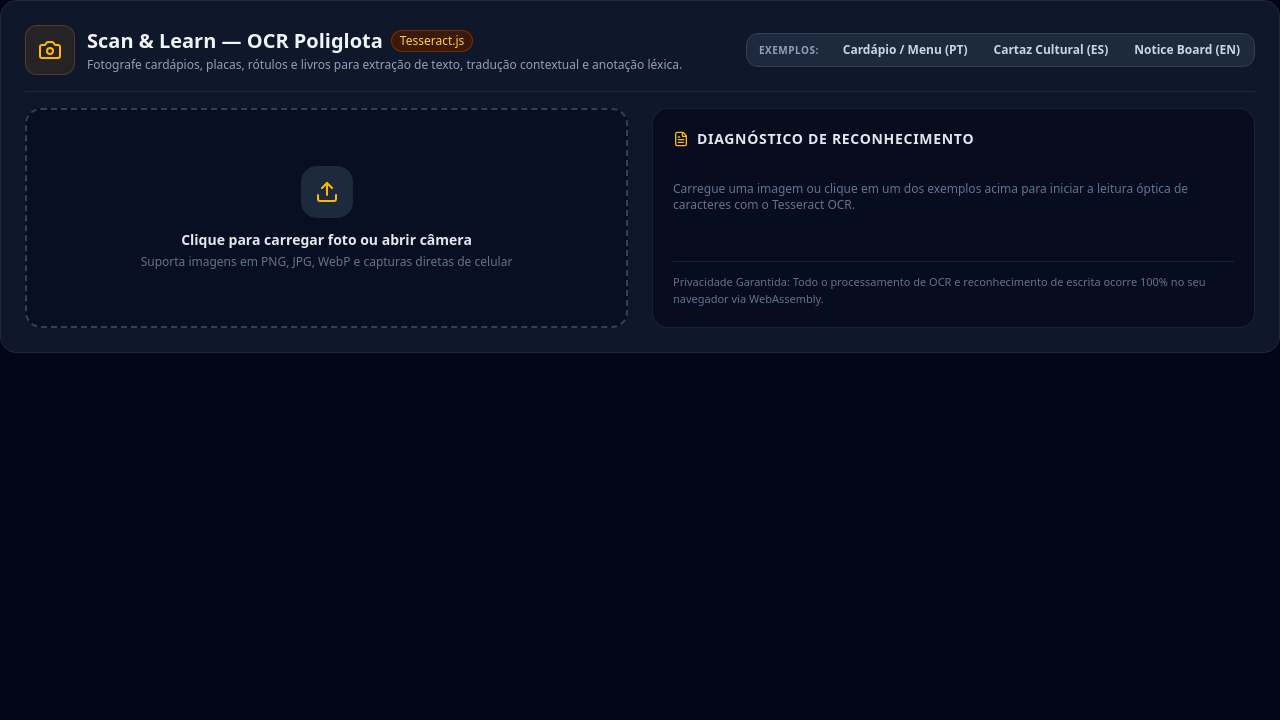
it: Step 8: Advanced Learning Features — Receptive & Multi-Modal Skills › 7. Scan and Learn (OCR) › detects scripts and extracts editable text with confidence scoring
Expected: the heading "Scan & Learn — OCR Poliglota" is shown, [87,27,383,55]
# Click sample menu button
What coordinates should you click on to do the following:
click the button "Cardápio / Menu (PT)"
I would click on:
 (905, 50)
Its box is [833,38,978,62].
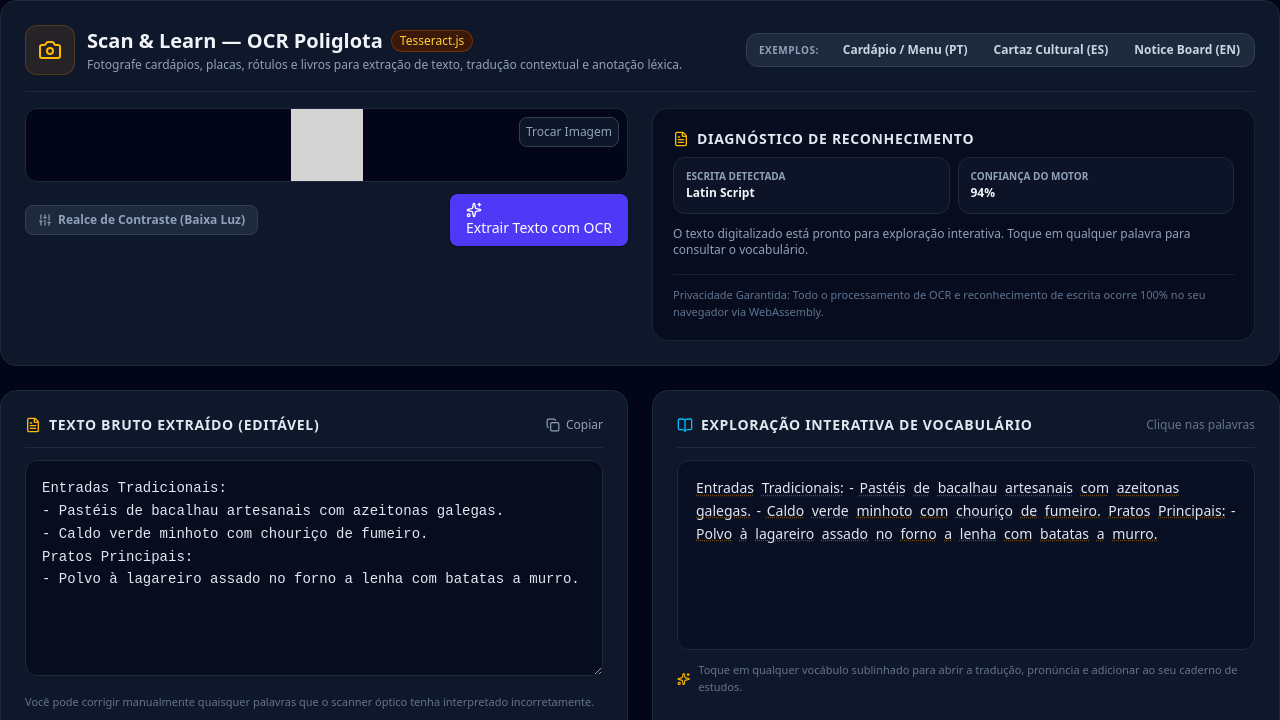
Now the text "Escrita Detectada" is shown, box [686,169,785,183]
Now the text "Confiança do Motor" is shown, box [970,169,1088,183]
Now the text "94%" is shown, box [970,184,995,201]
